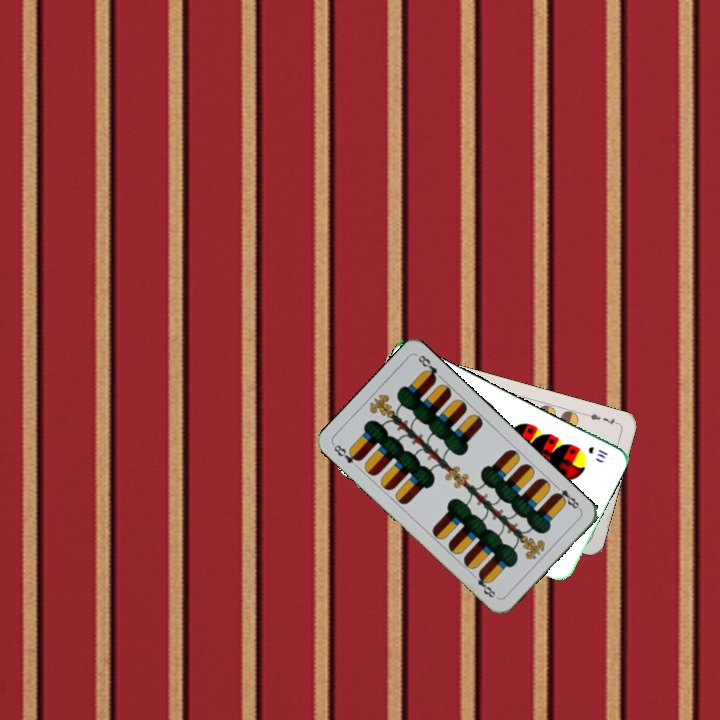E7: (581, 409, 621, 428)
E8: (549, 481, 583, 513), (329, 441, 363, 466)
S10: (584, 442, 611, 461)
